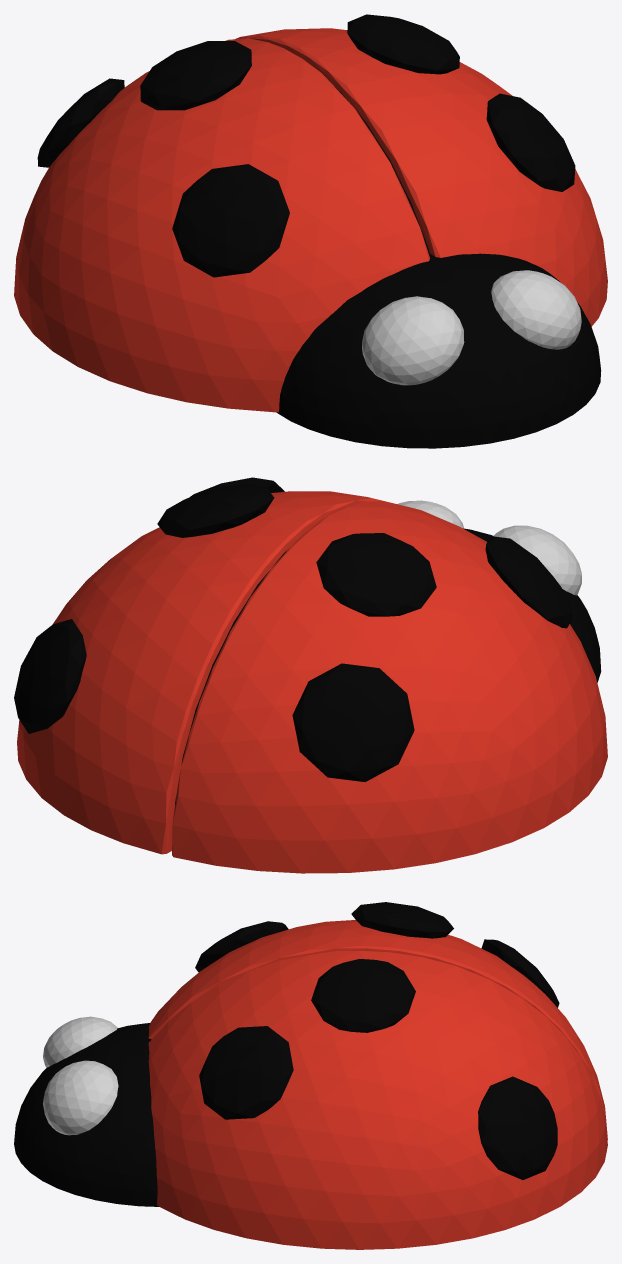
The picture shows the model from 3 angles, top to bottom: view 1: azimuth 30°, elevation 25°; view 2: azimuth 150°, elevation 25°; view 3: azimuth 270°, elevation 25°; orthographic projection. The views are drawn at different scales.
Visible parts, largest first — view 1: Icosphere.001, Icosphere.002, Icosphere, Icosphere.004, Icosphere.009, Icosphere.006, Icosphere.003, Icosphere.010, Icosphere.005, Icosphere.008; view 2: Icosphere.001, Icosphere, Icosphere.008, Icosphere.006, Icosphere.007, Icosphere.005, Icosphere.004, Icosphere.009, Icosphere.002, Icosphere.010; view 3: Icosphere, Icosphere.002, Icosphere.001, Icosphere.003, Icosphere.007, Icosphere.005, Icosphere.010, Icosphere.006, Icosphere.009, Icosphere.004, Icosphere.008.
Part boxes in pixels (x1=…): Icosphere.001: x1=14, y1=38, x2=429, y2=412; Icosphere.002: x1=276, y1=253, x2=601, y2=448; Icosphere: x1=235, y1=28, x2=607, y2=326; Icosphere.004: x1=172, y1=164, x2=289, y2=277; Icosphere.009: x1=362, y1=296, x2=464, y2=385; Icosphere.006: x1=140, y1=41, x2=251, y2=110; Icosphere.003: x1=486, y1=93, x2=575, y2=191; Icosphere.010: x1=491, y1=270, x2=581, y2=349; Icosphere.005: x1=347, y1=14, x2=459, y2=74; Icosphere.008: x1=37, y1=78, x2=124, y2=167; Icosphere.001: x1=172, y1=501, x2=607, y2=873; Icosphere: x1=17, y1=491, x2=382, y2=854; Icosphere.008: x1=292, y1=663, x2=414, y2=781; Icosphere.006: x1=316, y1=533, x2=436, y2=616; Icosphere.007: x1=14, y1=619, x2=86, y2=733; Icosphere.005: x1=157, y1=484, x2=274, y2=537; Icosphere.004: x1=485, y1=536, x2=572, y2=628; Icosphere.009: x1=493, y1=525, x2=581, y2=595; Icosphere.002: x1=463, y1=528, x2=601, y2=682; Icosphere.010: x1=397, y1=500, x2=463, y2=528; Icosphere: x1=148, y1=951, x2=607, y2=1249; Icosphere.002: x1=14, y1=1023, x2=158, y2=1206; Icosphere.001: x1=148, y1=920, x2=607, y2=1140; Icosphere.003: x1=199, y1=1026, x2=293, y2=1119; Icosphere.007: x1=478, y1=1076, x2=557, y2=1179; Icosphere.005: x1=311, y1=959, x2=415, y2=1032; Icosphere.010: x1=43, y1=1060, x2=118, y2=1135; Icosphere.006: x1=351, y1=902, x2=453, y2=938; Icosphere.009: x1=43, y1=1016, x2=117, y2=1067; Icosphere.004: x1=195, y1=921, x2=288, y2=972; Icosphere.008: x1=481, y1=939, x2=559, y2=1007.
Size of the model in its own units: 14.47 by 6.54 by 16.92.
